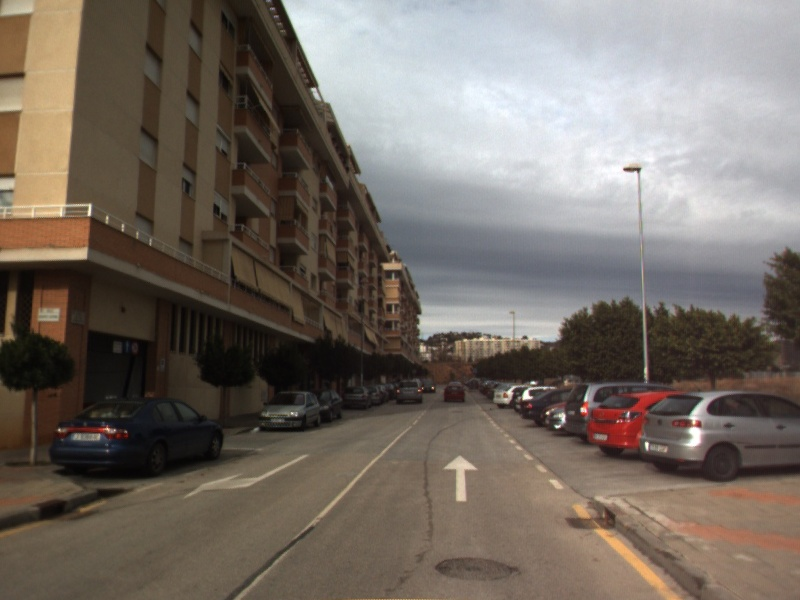STRAIGHT: (441, 454, 480, 504)
